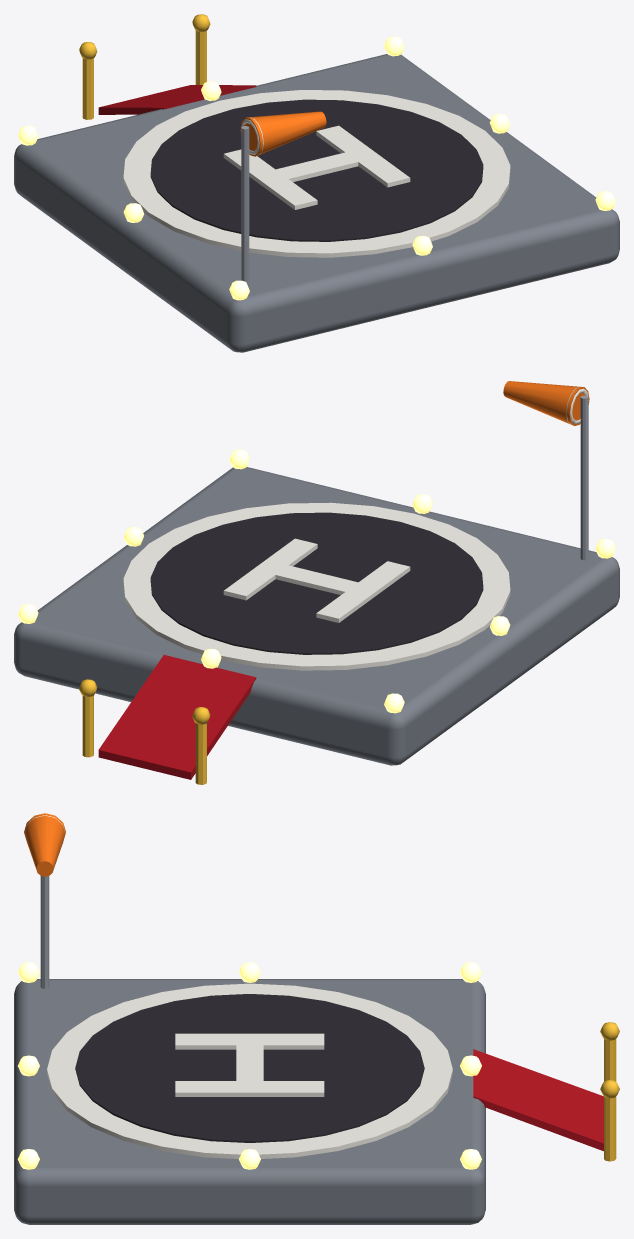
File: building_executive_helipad_t1.glb
3 views of the same model, one above another, from view 1: azimuth 30°, elevation 25°; view 2: azimuth 150°, elevation 25°; view 3: azimuth 270°, elevation 25° (orthographic). The views are drawn at different scales.
Visible parts, largest first — view 1: PadBase, PadDisc, PadRing, Sock, CarpetRamp, HBarMid, HBarR, HBarL, WindPole, StanchionL, StanchionR; view 2: PadBase, PadDisc, PadRing, CarpetRamp, Sock, HBarMid, HBarL, HBarR, WindPole, StanchionL, StanchionR; view 3: PadBase, PadDisc, PadRing, CarpetRamp, HBarL, HBarR, Sock, HBarMid, WindPole, StanchionR.
Part boxes in pixels (x1,y1,x2,y2): PadBase: (14, 54, 619, 352); PadDisc: (150, 99, 483, 241); PadRing: (123, 90, 510, 257); Sock: (240, 111, 326, 156); CarpetRamp: (98, 85, 256, 114); HBarMid: (256, 147, 379, 183); HBarR: (316, 125, 410, 187); HBarL: (223, 149, 317, 209); WindPole: (241, 126, 249, 288); StanchionL: (82, 58, 93, 119); StanchionR: (195, 30, 206, 84); PadBase: (14, 467, 619, 765); PadDisc: (150, 512, 483, 654); PadRing: (123, 502, 510, 670); CarpetRamp: (98, 655, 256, 779); Sock: (503, 381, 589, 425); HBarMid: (254, 560, 379, 596); HBarL: (316, 561, 410, 622); HBarR: (223, 538, 317, 600); WindPole: (580, 395, 588, 560); StanchionL: (195, 723, 206, 784); StanchionR: (82, 696, 93, 757); PadBase: (14, 979, 485, 1224); PadDisc: (75, 994, 424, 1142); PadRing: (47, 983, 452, 1158); CarpetRamp: (473, 1049, 603, 1151); HBarL: (175, 1033, 324, 1049); HBarR: (175, 1081, 324, 1096); Sock: (24, 813, 65, 876); HBarMid: (236, 1034, 263, 1091); WindPole: (40, 876, 49, 988); StanchionR: (604, 1096, 616, 1161).
Bounding box in the file's own units: 3.8 × 2.07 × 4.88.
